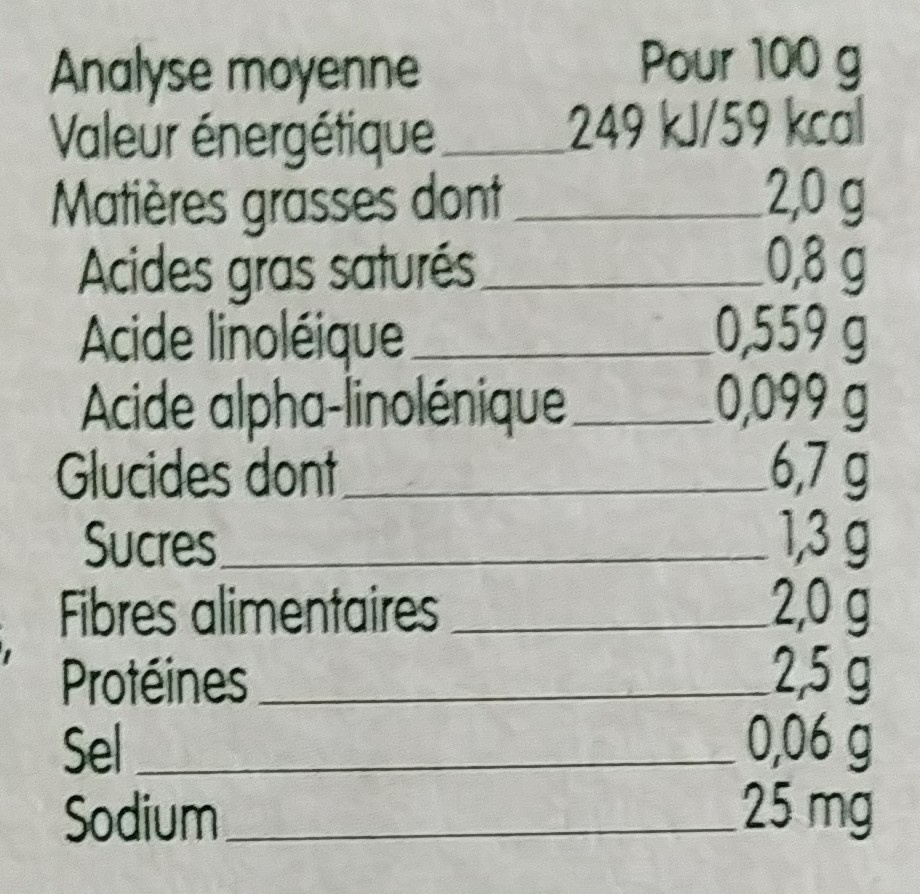column: (50, 50, 565, 842), (574, 36, 869, 838)
table: (38, 23, 886, 858)
